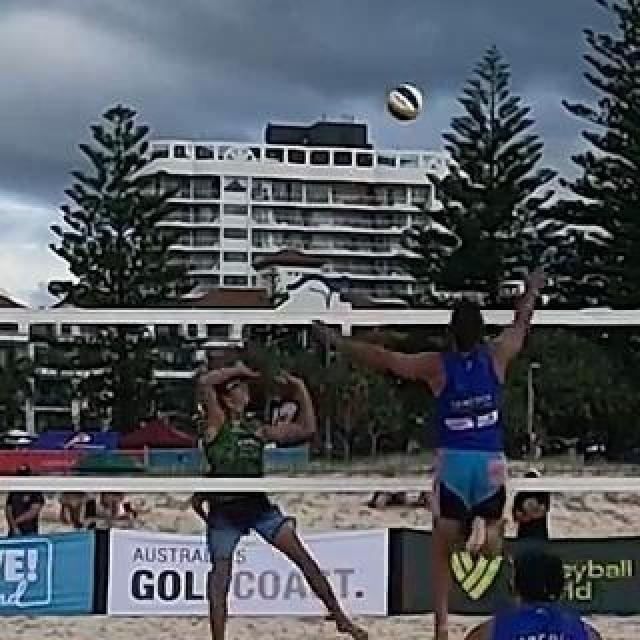volleyball: (387, 86, 423, 120)
